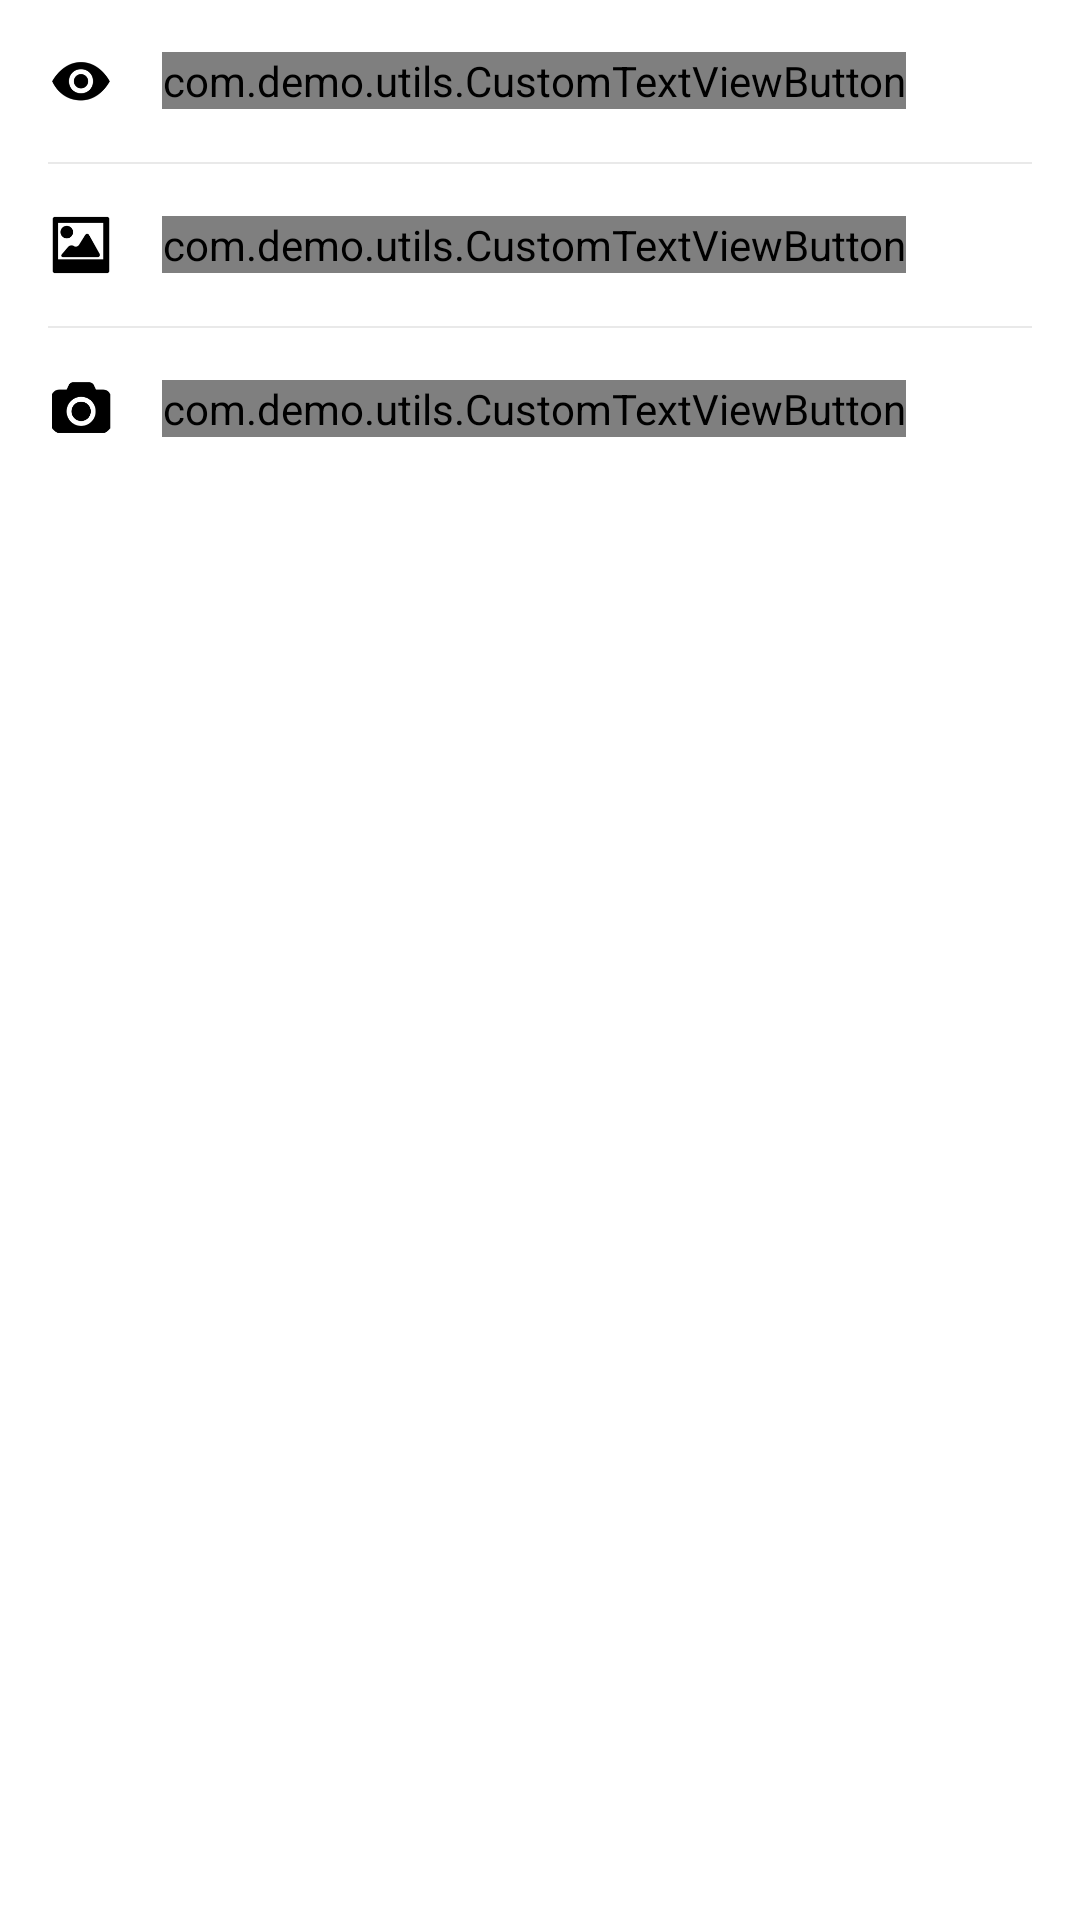

Screen size 1080*1920. Icon name, then its box in pixels as [x1, y1, x2, y2]:
camera: [52, 382, 111, 433]
gallery: [52, 217, 110, 273]
